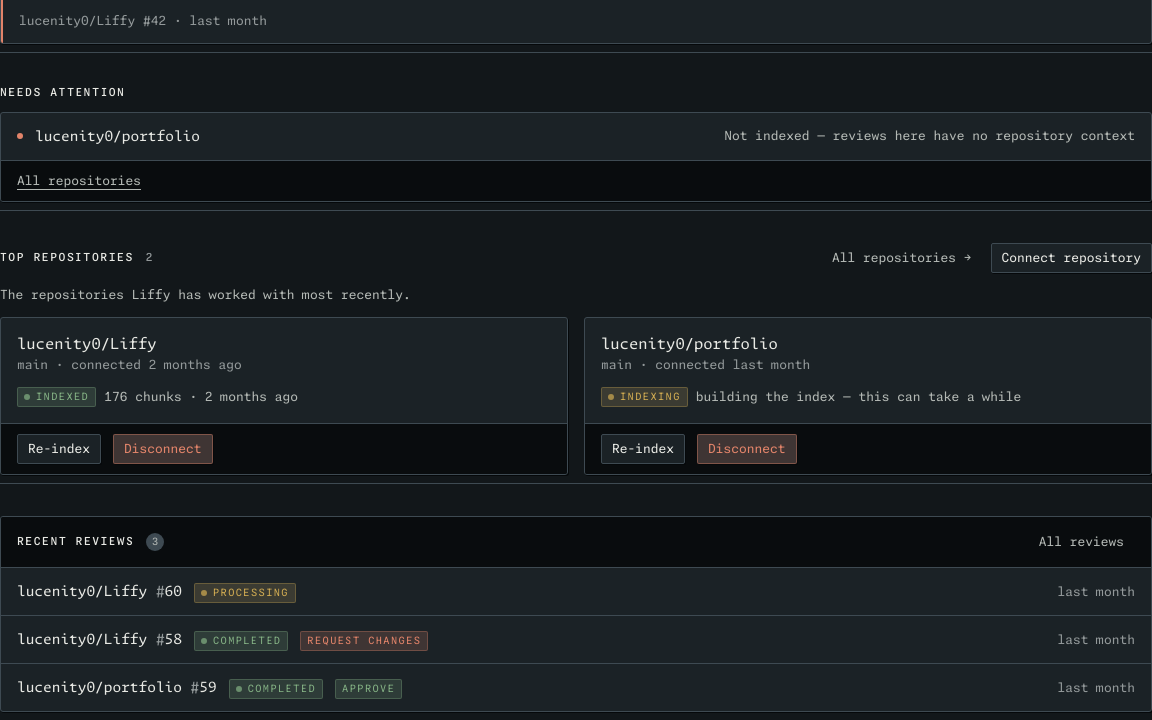
Test: Dashboard — repo actions › re-indexes on click and confirms the 202 inline
(page scrolled)
Click the button "Re-index" below "176": click(59, 449) x1=17 y1=434 x2=101 y2=464
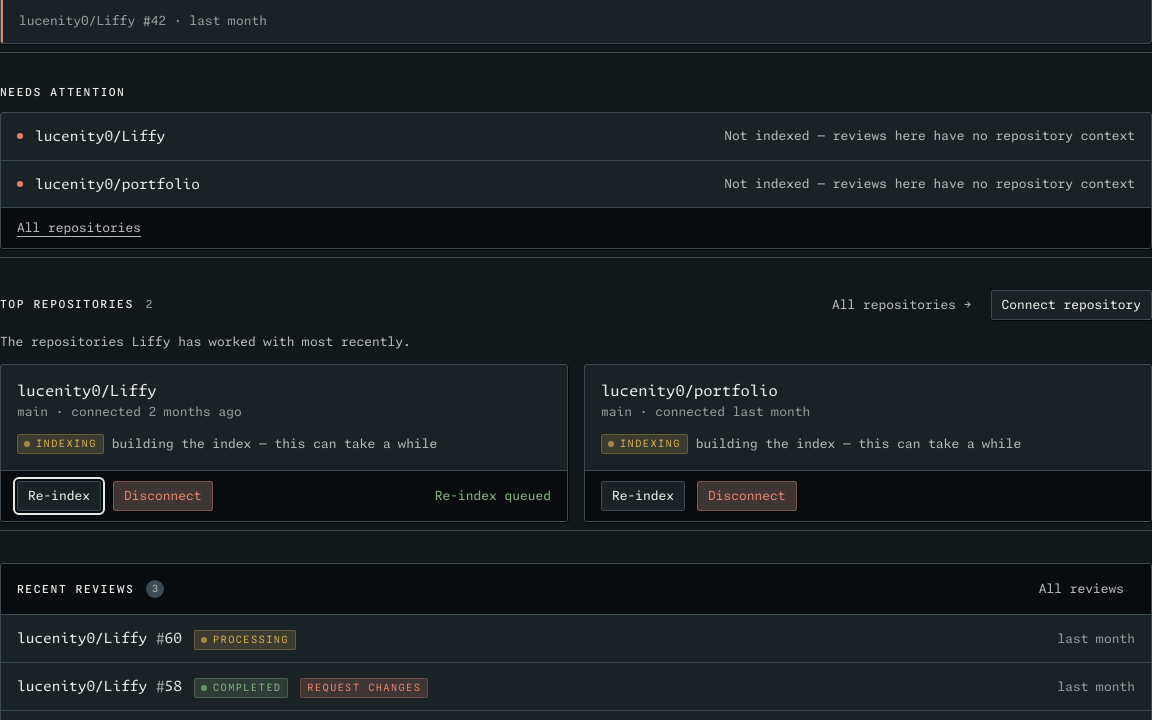
Result: the text "Re-index queued" is shown at x1=435 y1=486 x2=551 y2=506
Result: the text "Indexing" is shown at x1=17 y1=434 x2=104 y2=454
